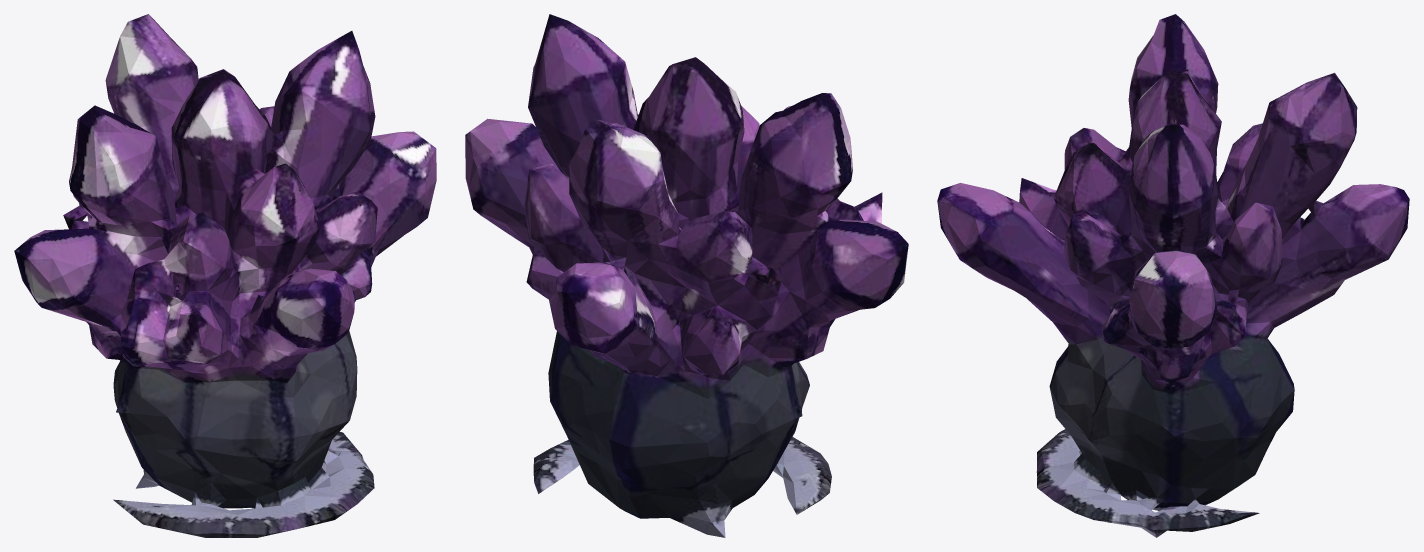
The model's file is kale_kristal.glb.
The picture shows the model from 3 angles, left to right: view 1: azimuth 30°, elevation 25°; view 2: azimuth 150°, elevation 25°; view 3: azimuth 270°, elevation 25°; orthographic projection. The views are drawn at different scales.
Visible parts, largest first — view 1: geometry_0; view 2: geometry_0; view 3: geometry_0.
Boxes of the visible parts, left/top/right/bottom form: geometry_0: left=14, top=14, right=436, bottom=537; geometry_0: left=465, top=14, right=908, bottom=537; geometry_0: left=937, top=14, right=1409, bottom=537.
Bounding box in the file's own units: 0.9651 × 0.9582 × 0.9712.
1 material, 1 textured.
